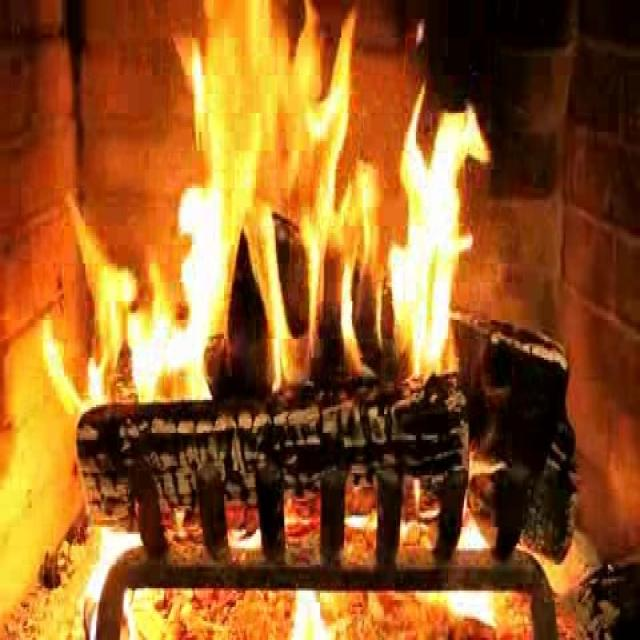fire: (100, 9, 494, 394)
